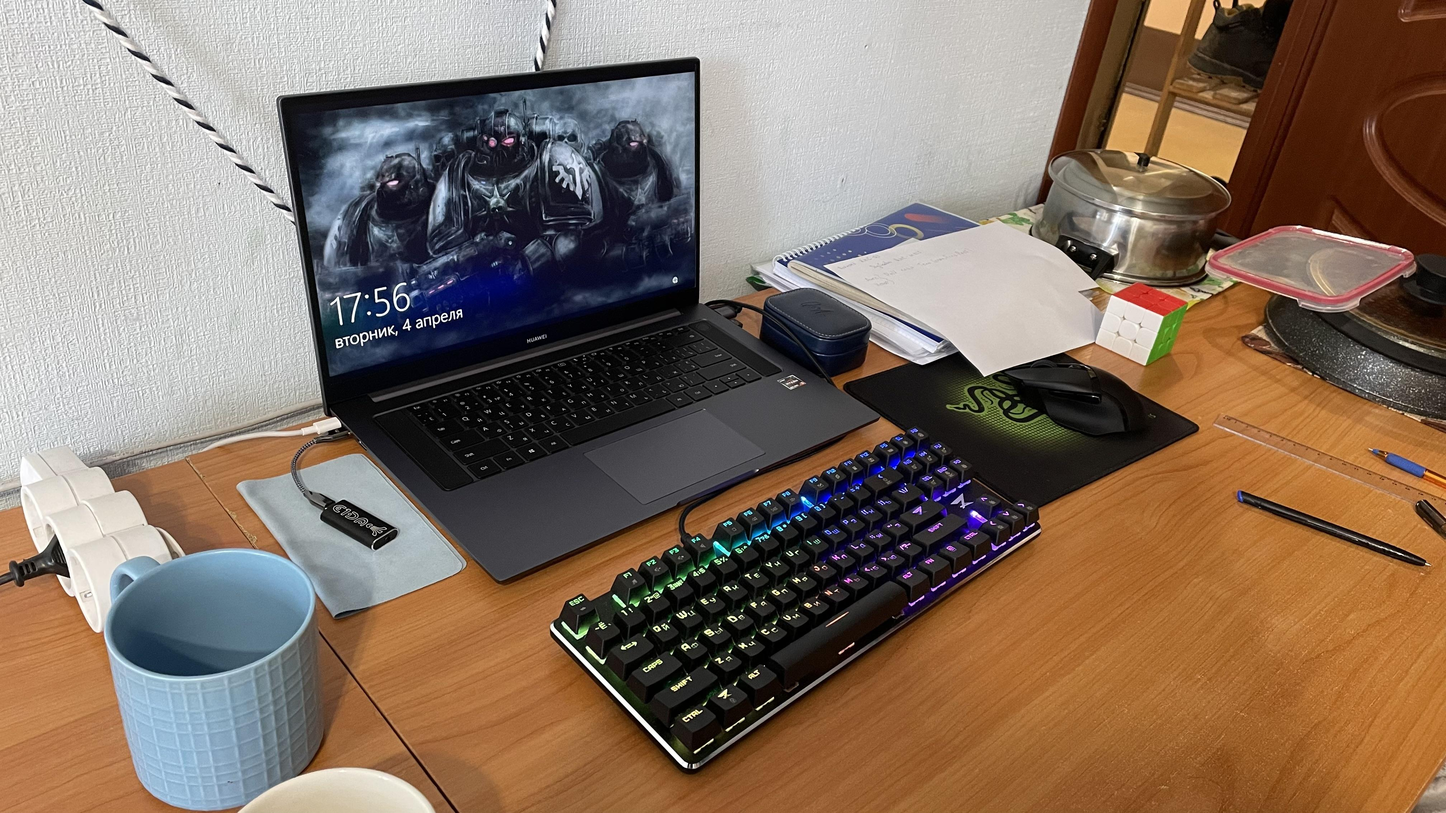monitor: (276, 50, 707, 425)
